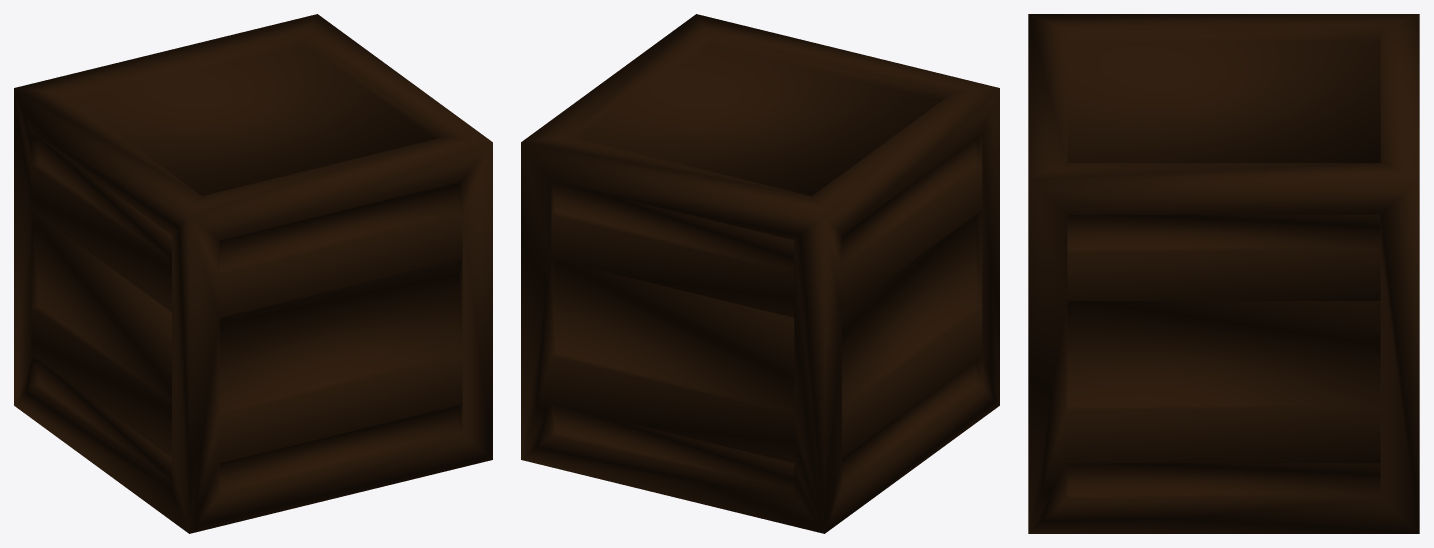
Rendered from Pushable_block.fbx.
The picture shows the model from 3 angles, left to right: view 1: azimuth 30°, elevation 25°; view 2: azimuth 150°, elevation 25°; view 3: azimuth 270°, elevation 25°; orthographic projection. The views are drawn at different scales.
Parts seen in each view (by area): view 1: Cube; view 2: Cube; view 3: Cube.
Part boxes in pixels (<box>): Cube: <box>14,14,492,533</box>; Cube: <box>521,14,999,533</box>; Cube: <box>1028,14,1419,533</box>.
Size of the model in its own units: 200 by 200 by 200.
